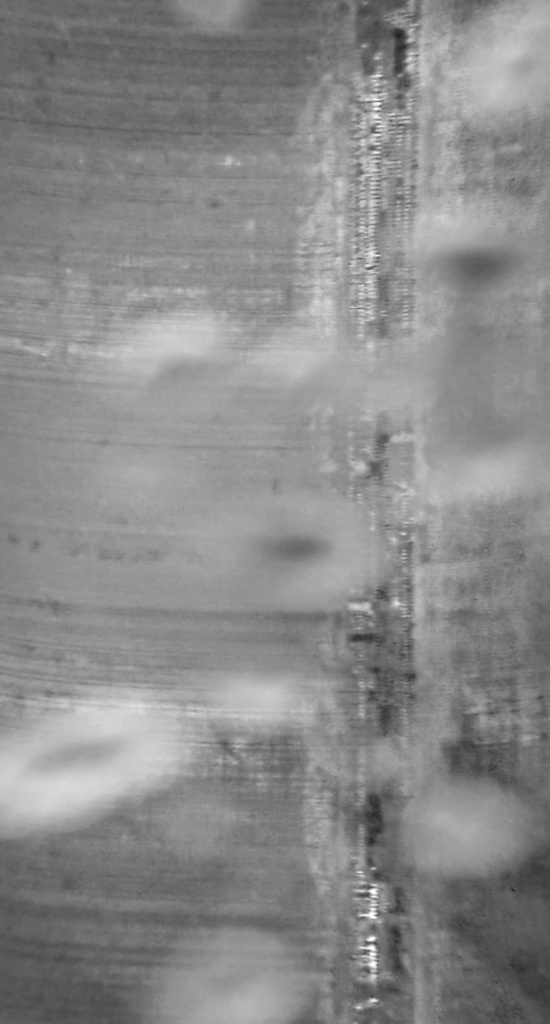splice: (333, 2, 436, 1024)
